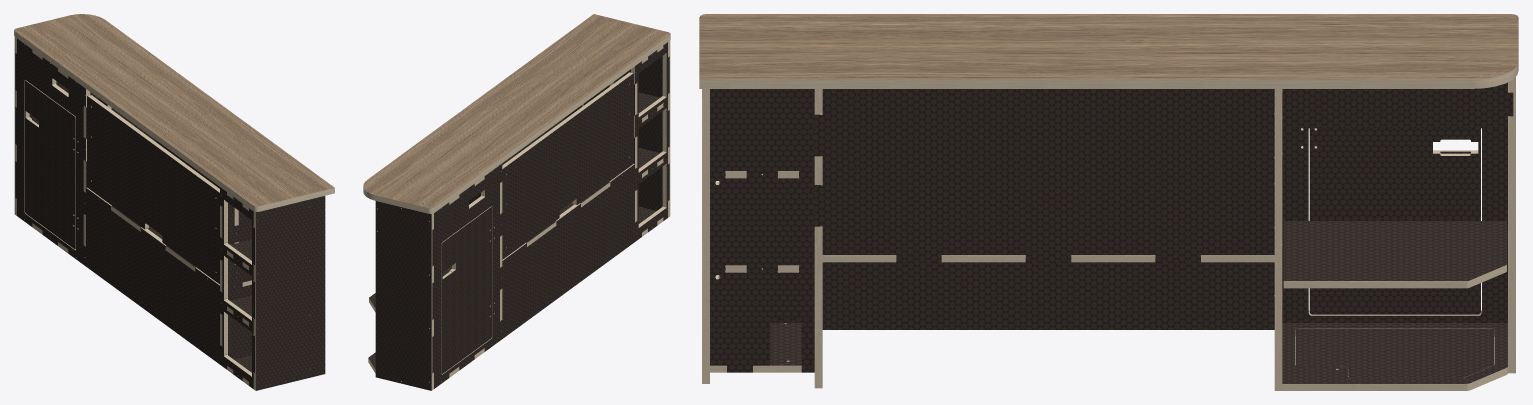
The model's file is side-cabinet-hexa.glb.
3 renders of one model, left to right at view 1: azimuth 30°, elevation 25°; view 2: azimuth 150°, elevation 25°; view 3: azimuth 270°, elevation 25°, orthographic. The views are drawn at different scales.
Visible parts, largest first — view 1: Side cabinet oak top - 1561x295x20 - R15_0, B (11)_1, B (15)_1, B (1)_1, B (3)_1, B (14)_1, B (11)_0, B (1)_0, B (2)_0, B (10)_0, B (15)_0, B (14)_0 (+1 smaller); view 2: Side cabinet oak top - 1561x295x20 - R15_0, B (11)_1, B (1)_1, B (2)_1, B (3)_1, B (15)_1, B (11)_0, B (1)_0, B (2)_0, B (15)_0, B (10)_0, B (12)_0 (+1 smaller); view 3: B (8)_1, Side cabinet oak top - 1561x295x20 - R15_0, B (11)_1, B (19)_1, B (3)_1, B (6)_1, B (5)_1, B (7)_1, B (13)_1, B (12)_0, B (10)_0, B (15)_0 (+5 smaller).
Part boxes in pixels (x1,y1,x2,y2): Side cabinet oak top - 1561x295x20 - R15_0: [14, 14, 334, 211]; B (11)_1: [15, 38, 254, 388]; B (15)_1: [256, 196, 325, 390]; B (1)_1: [87, 96, 219, 284]; B (3)_1: [25, 80, 75, 249]; B (14)_1: [222, 203, 251, 359]; B (11)_0: [24, 63, 253, 376]; B (1)_0: [88, 95, 219, 272]; B (2)_0: [14, 37, 16, 215]; B (10)_0: [111, 206, 251, 286]; B (15)_0: [253, 207, 310, 390]; B (14)_0: [220, 205, 238, 346]; Side cabinet oak top - 1561x295x20 - R15_0: [363, 14, 670, 213]; B (11)_1: [432, 42, 669, 388]; B (1)_1: [502, 73, 633, 259]; B (2)_1: [375, 201, 431, 390]; B (3)_1: [442, 207, 491, 373]; B (15)_1: [638, 56, 662, 210]; B (11)_0: [441, 47, 666, 381]; B (1)_0: [502, 72, 632, 247]; B (2)_0: [377, 208, 433, 390]; B (15)_0: [668, 40, 670, 217]; B (10)_0: [527, 182, 610, 246]; B (12)_0: [500, 182, 502, 320]; B (8)_1: [814, 89, 1274, 262]; Side cabinet oak top - 1561x295x20 - R15_0: [699, 14, 1518, 88]; B (11)_1: [770, 128, 1507, 329]; B (19)_1: [710, 89, 814, 372]; B (3)_1: [1309, 128, 1480, 314]; B (6)_1: [1283, 221, 1506, 280]; B (5)_1: [1282, 82, 1513, 128]; B (7)_1: [1296, 328, 1494, 378]; B (13)_1: [1282, 322, 1507, 383]; B (12)_0: [1274, 89, 1282, 390]; B (10)_0: [822, 255, 1274, 262]; B (15)_0: [702, 89, 709, 383].
Size of the model in its own units: 0.295 by 0.655 by 1.56.
Materials: 4 (4 with a texture image).
